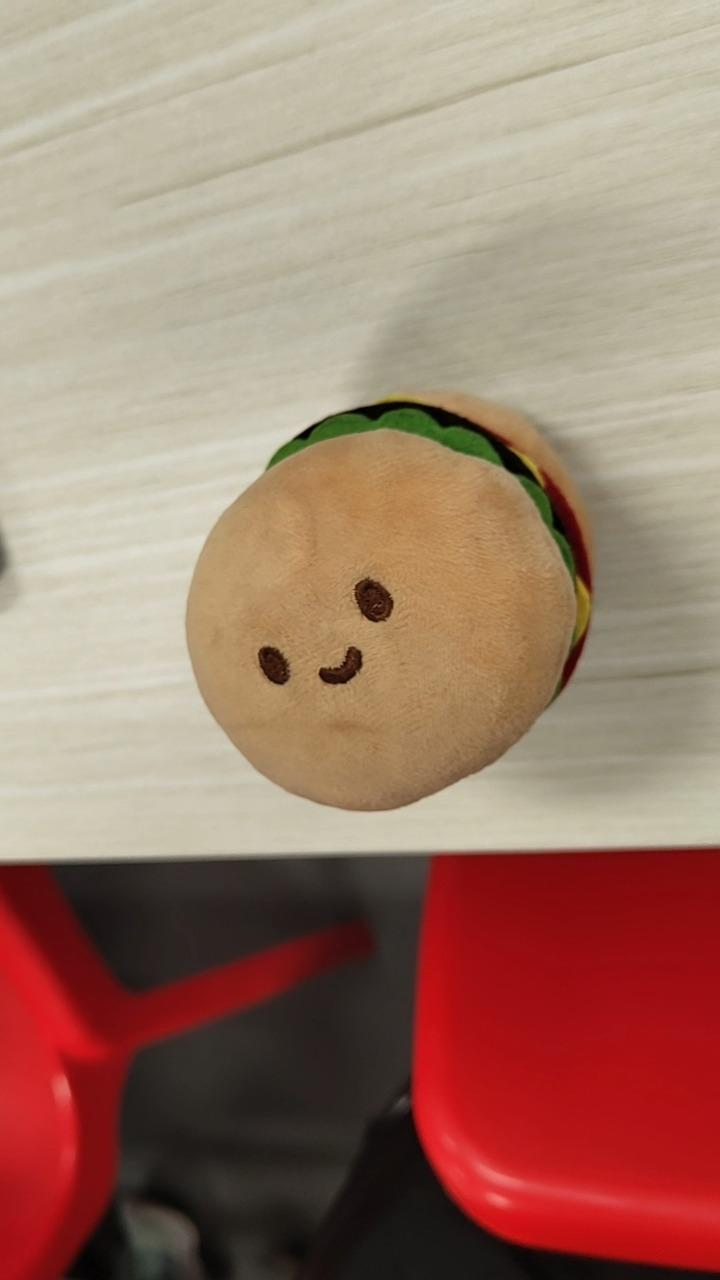hamburger: (183, 388, 595, 813)
